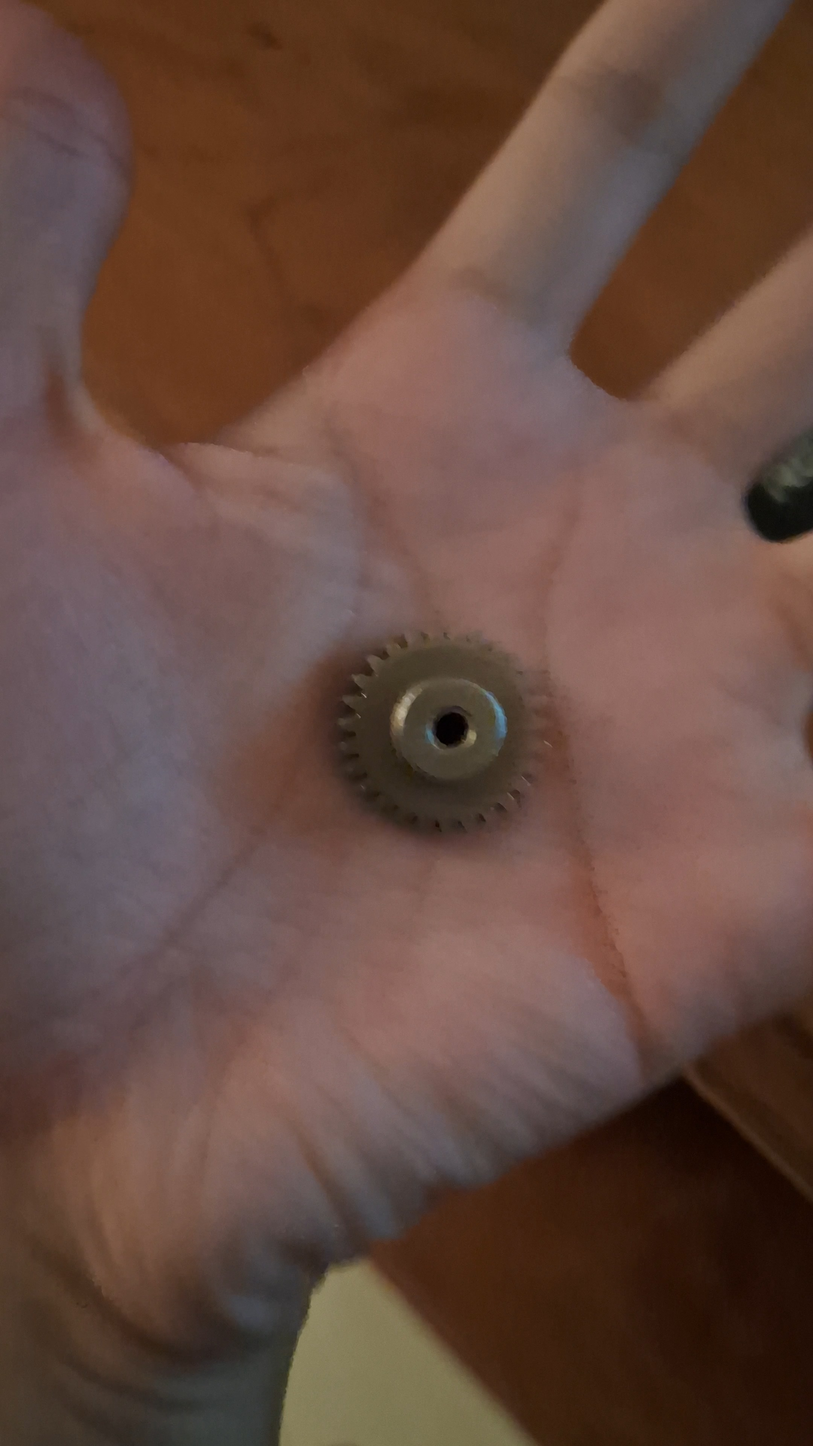spur gear: (338, 633, 539, 831)
